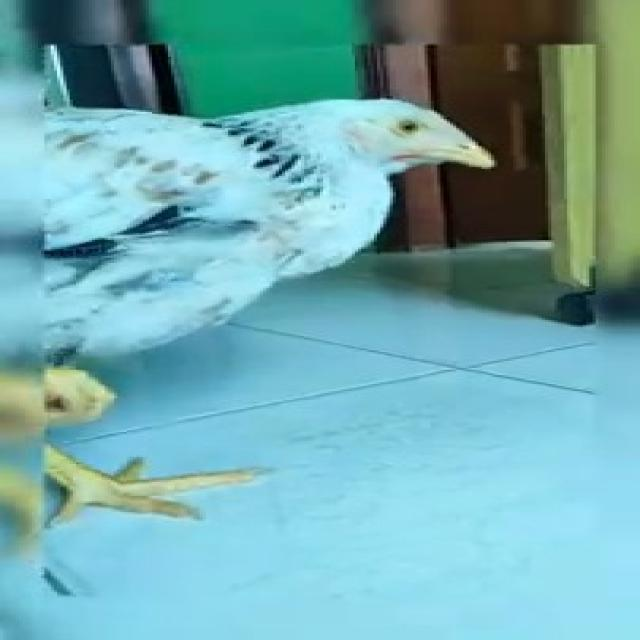leg stretching: (0, 57, 510, 533)
